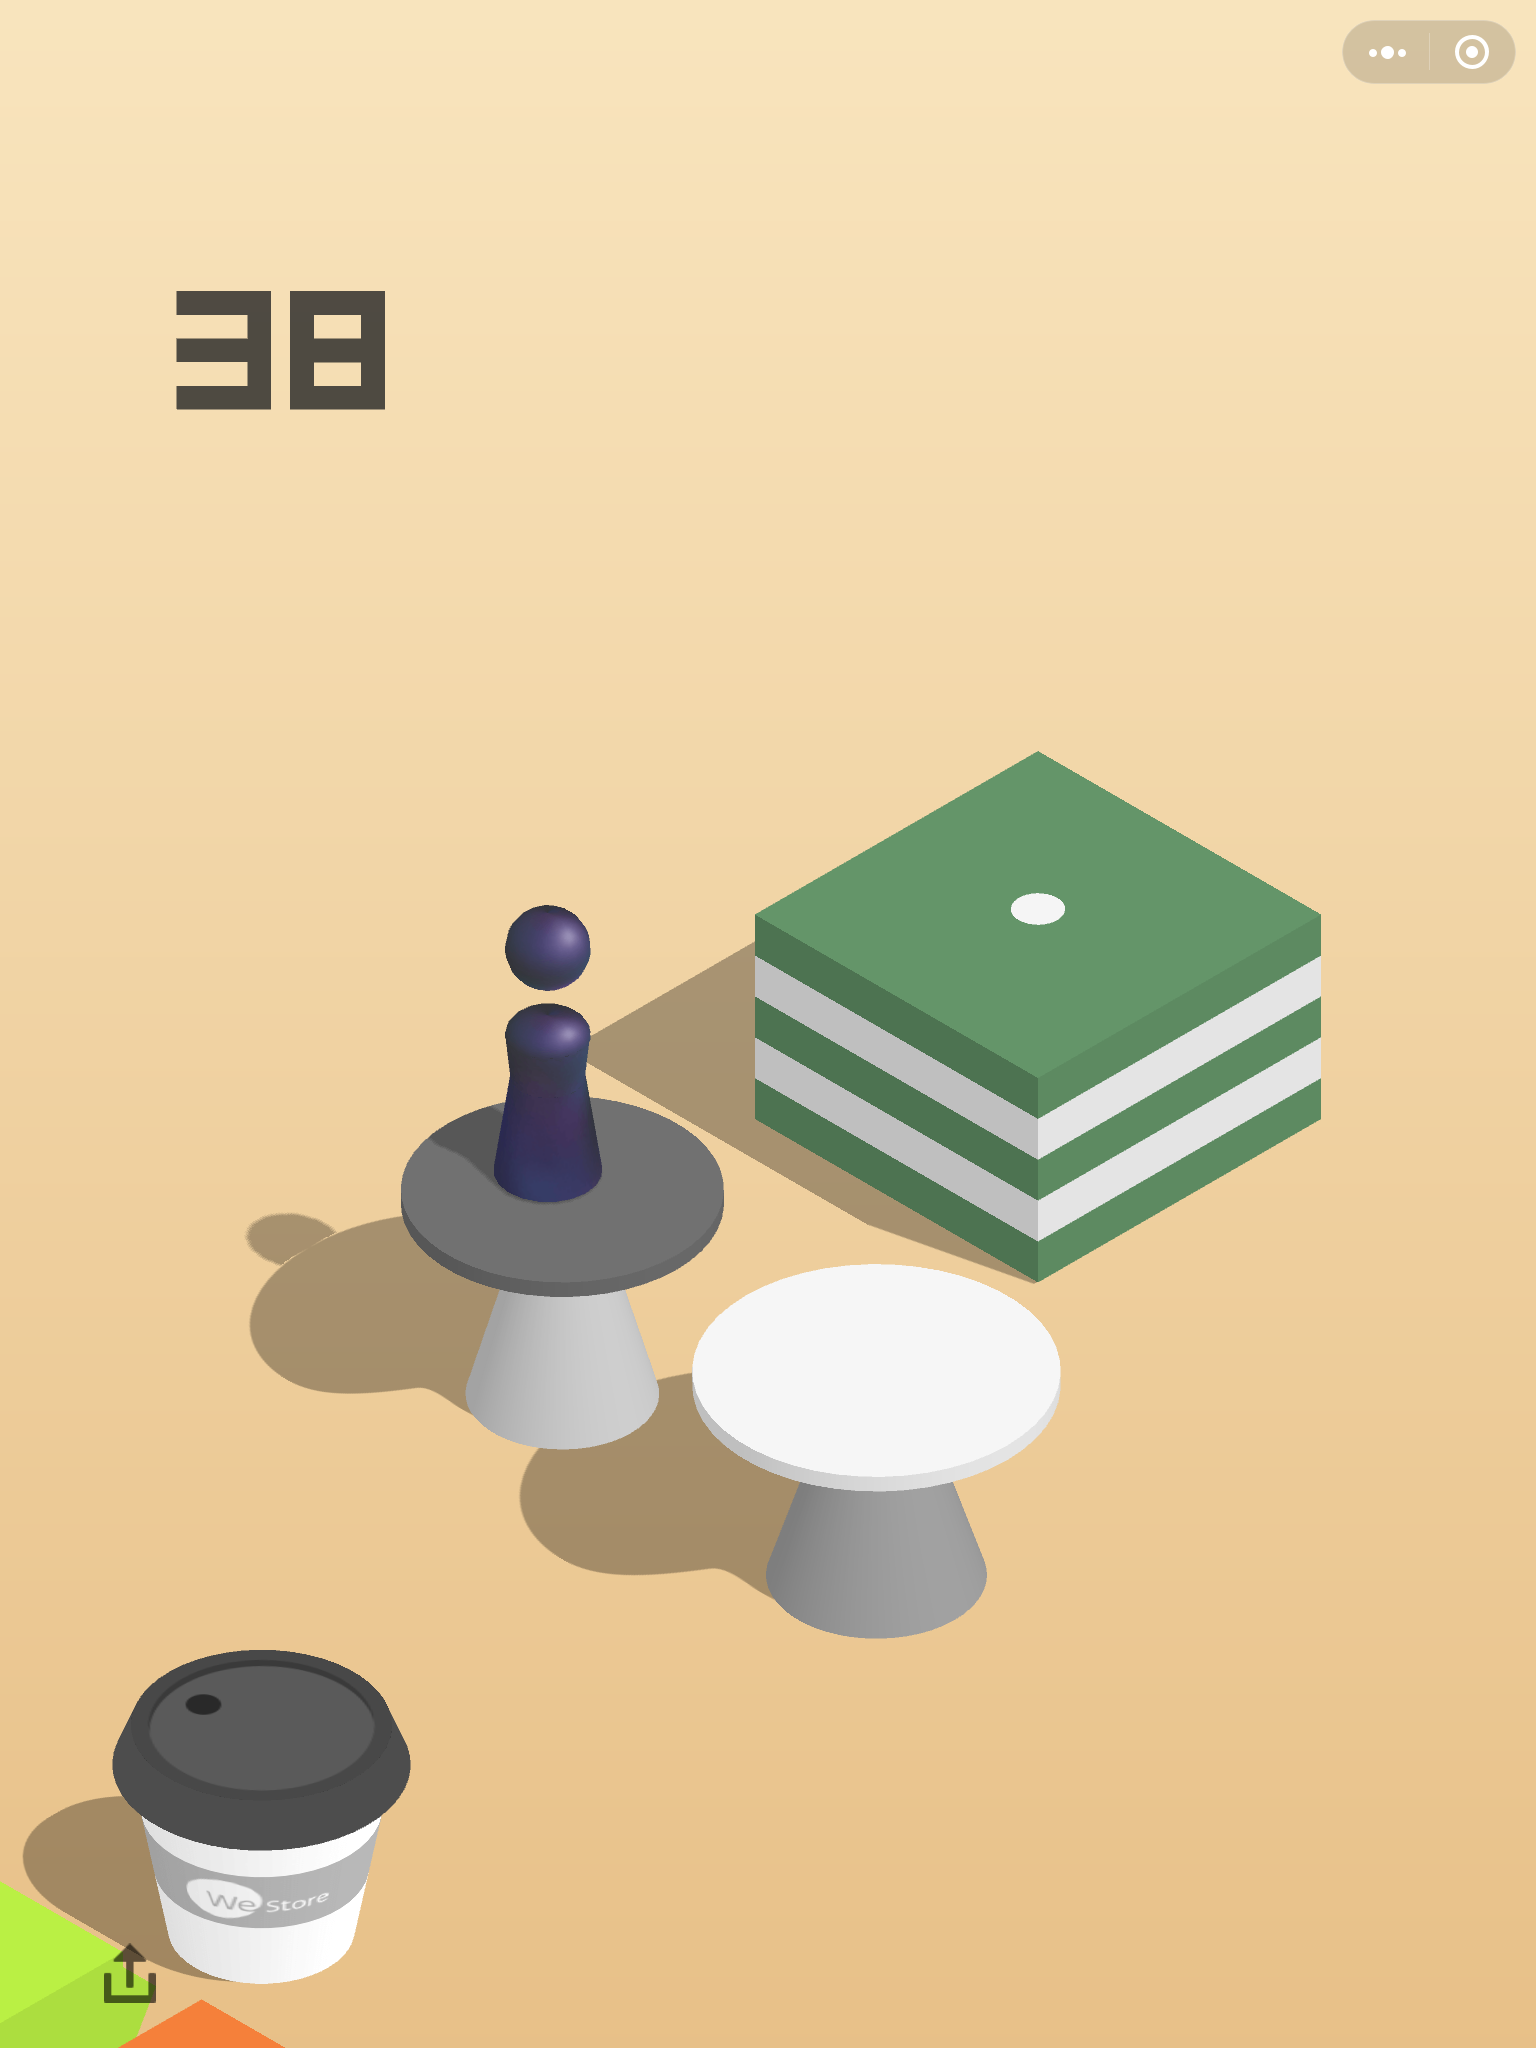c: (686, 1258, 1066, 1643), (390, 1095, 733, 1456), (108, 1643, 416, 1992)
f: (745, 747, 1333, 1285)
r: (487, 898, 608, 1211)
